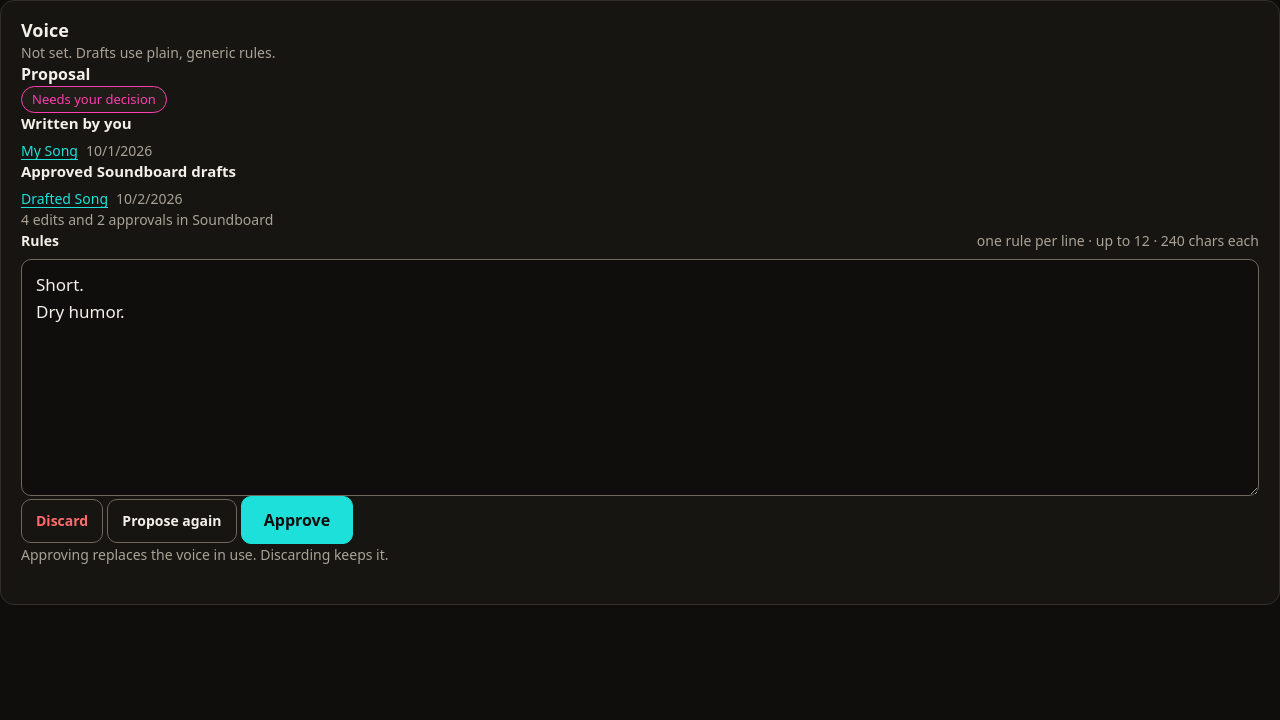
Test: VoiceGuide: proposal › keeps the proposal and says so when a discard fails
Click the button "Discard" at (62, 521), box [21,499,103,543]
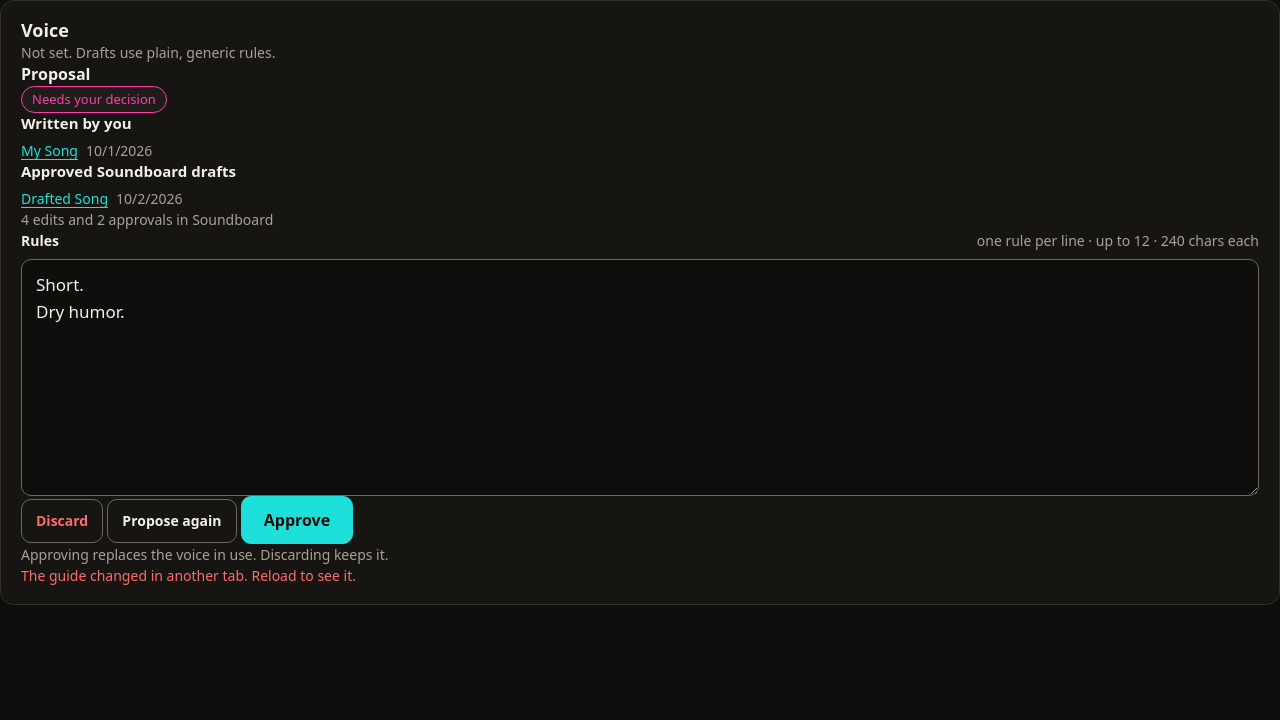
Expected: the text "The guide changed in another tab. Reload to see it." is shown, [21,566,356,585]
